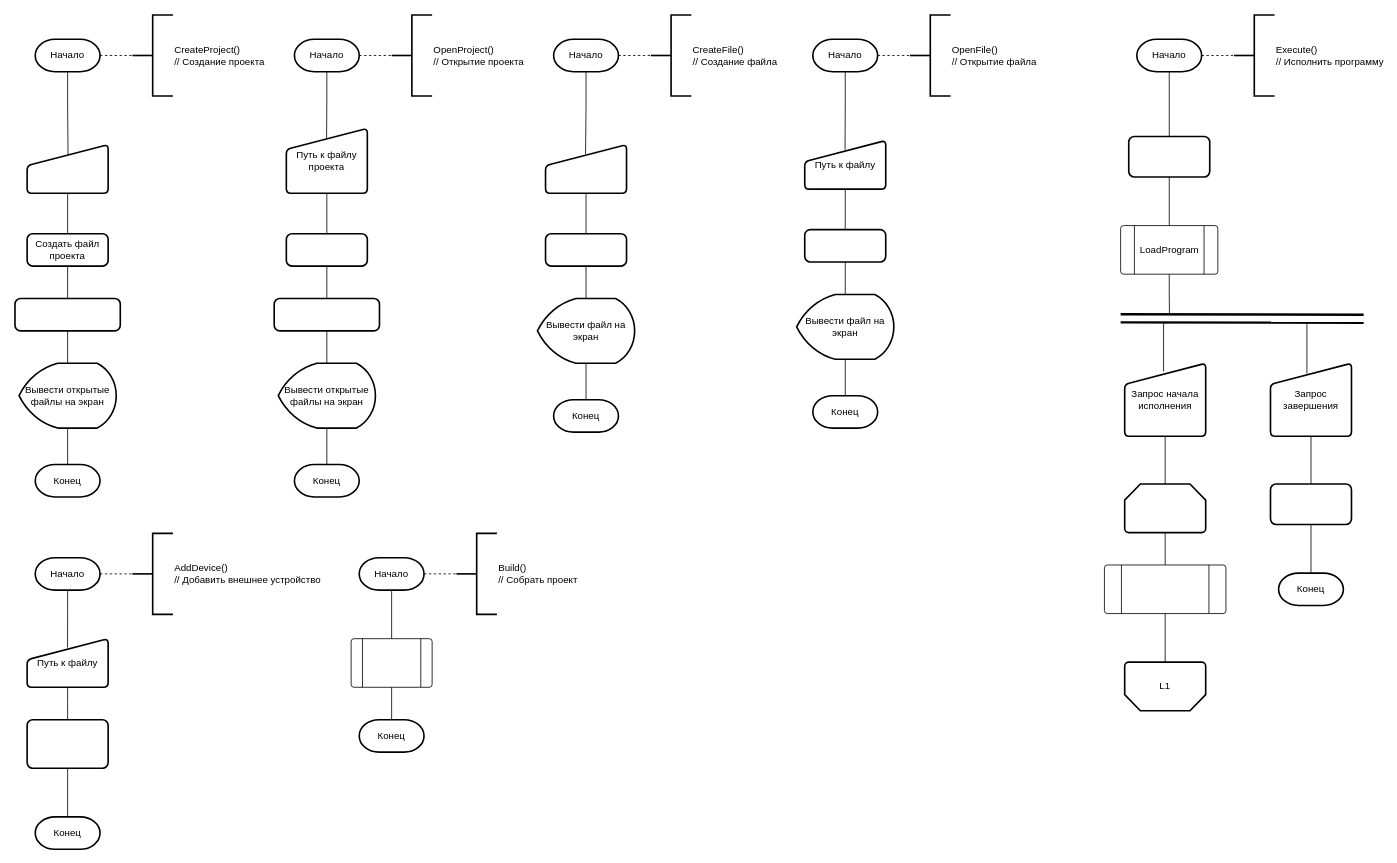
Some shapes in this 1397 by 863 pixel diagram are drawn without their labels. The shapes that lost their labels are listed below. From the top down, each one's centre as x and y in pixels, then its label:
At point (67, 168): "Имя проекта".
At point (585, 168): "Имя файла".
At point (1169, 156): "Открыть окно исполнителя".
At point (326, 249): "Открыть файл проекта".
At point (585, 249): "Создать файл".
At point (845, 245): "Открыть файл".
At point (67, 314): "Создать пустой файл исходного кода".
At point (326, 314): "Открыть исполняемый файл".
At point (1164, 508): "L1 Пока не HALT".
At point (1310, 504): "Закрыть окно исполнителя".
At point (1165, 589): "ExecuteCommand".
At point (391, 662): "Compile".
At point (67, 743): "Добавить путь к устройству в файл проекта".
